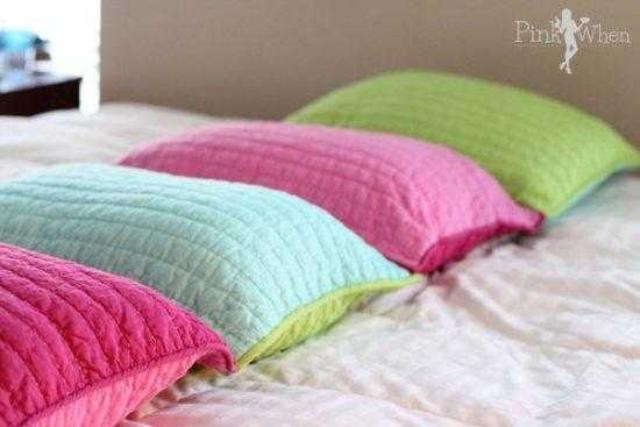pillow: (1, 152, 392, 362), (113, 118, 545, 276), (282, 66, 638, 222), (1, 252, 256, 397)
